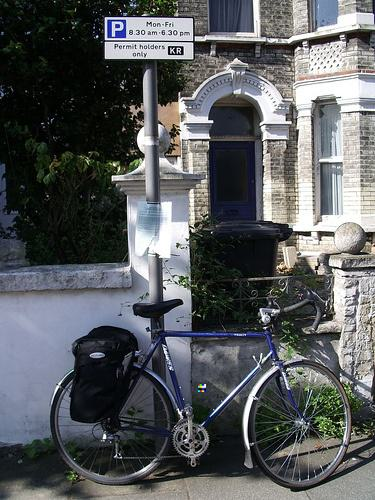car: (50, 285, 354, 491)
